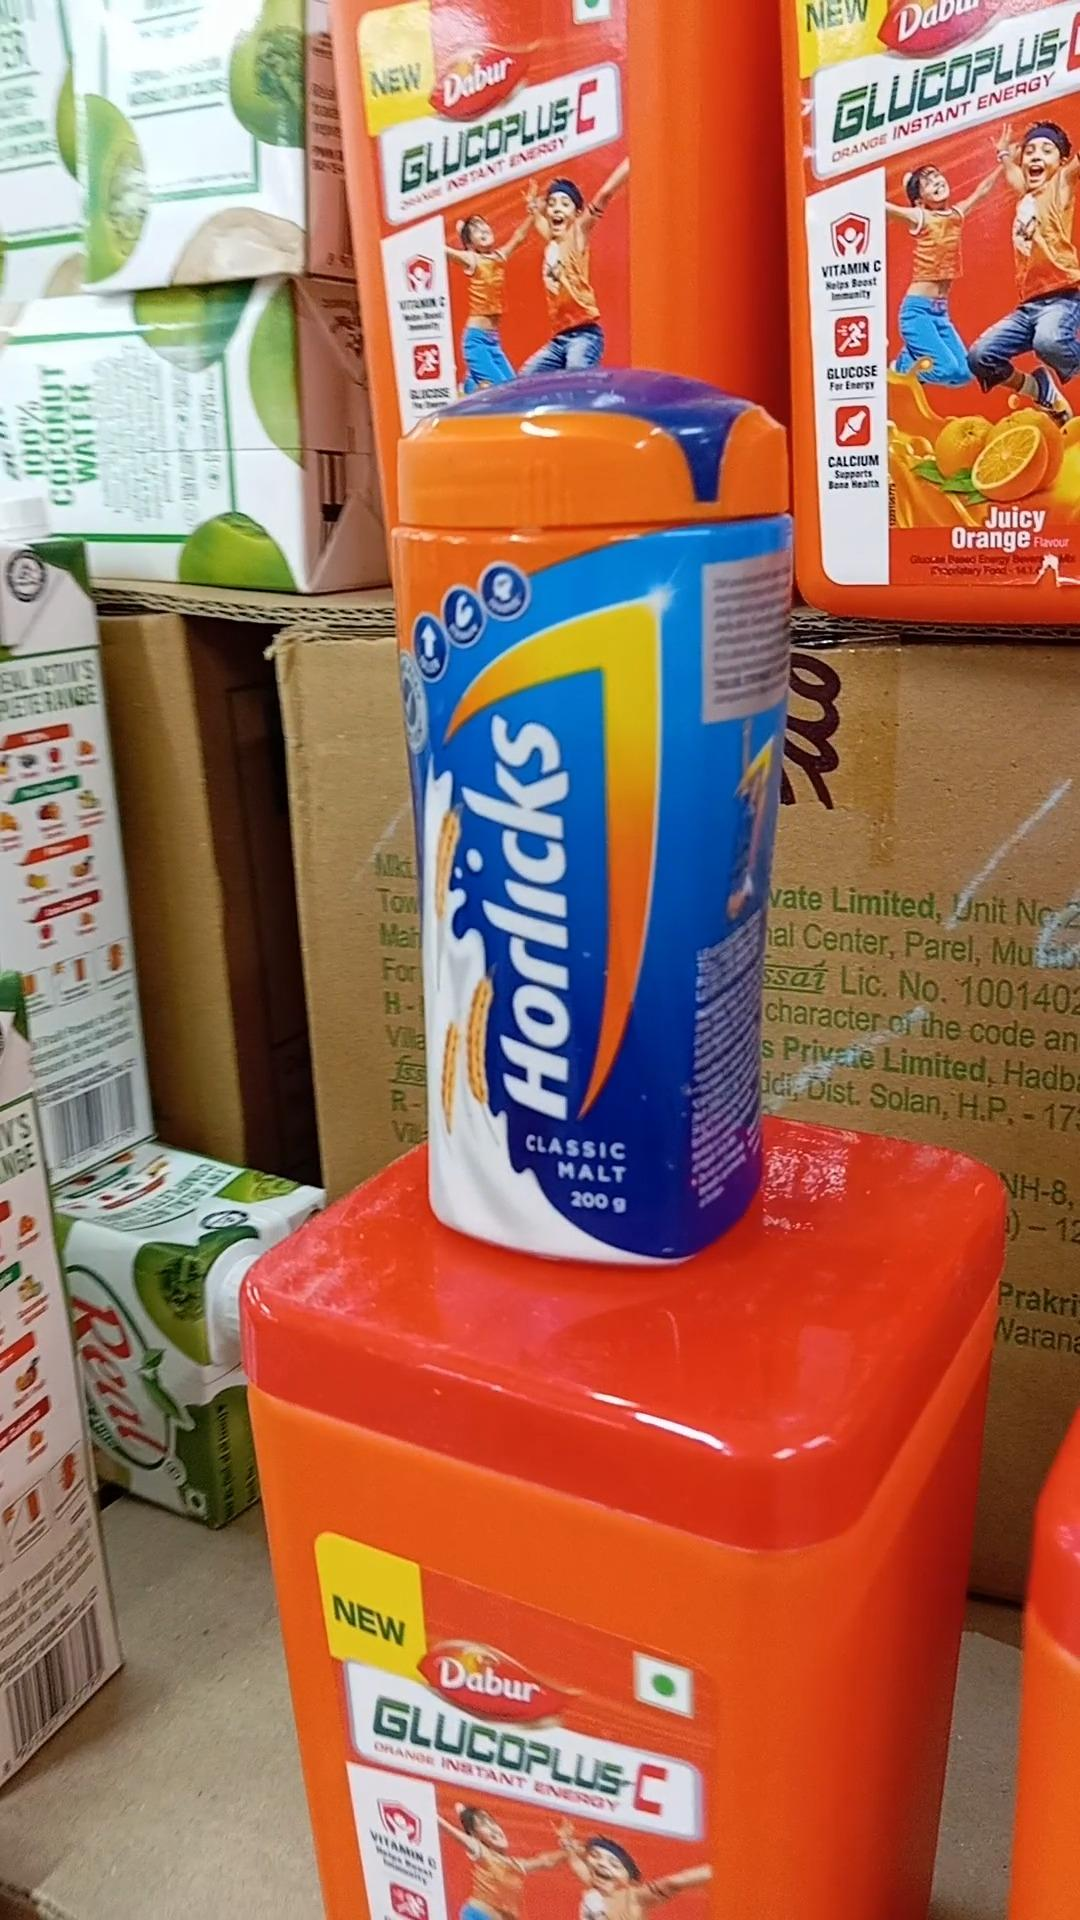HORLICK_CLASSIC_MALT_200_G_JAR: (402, 380, 756, 1265)
